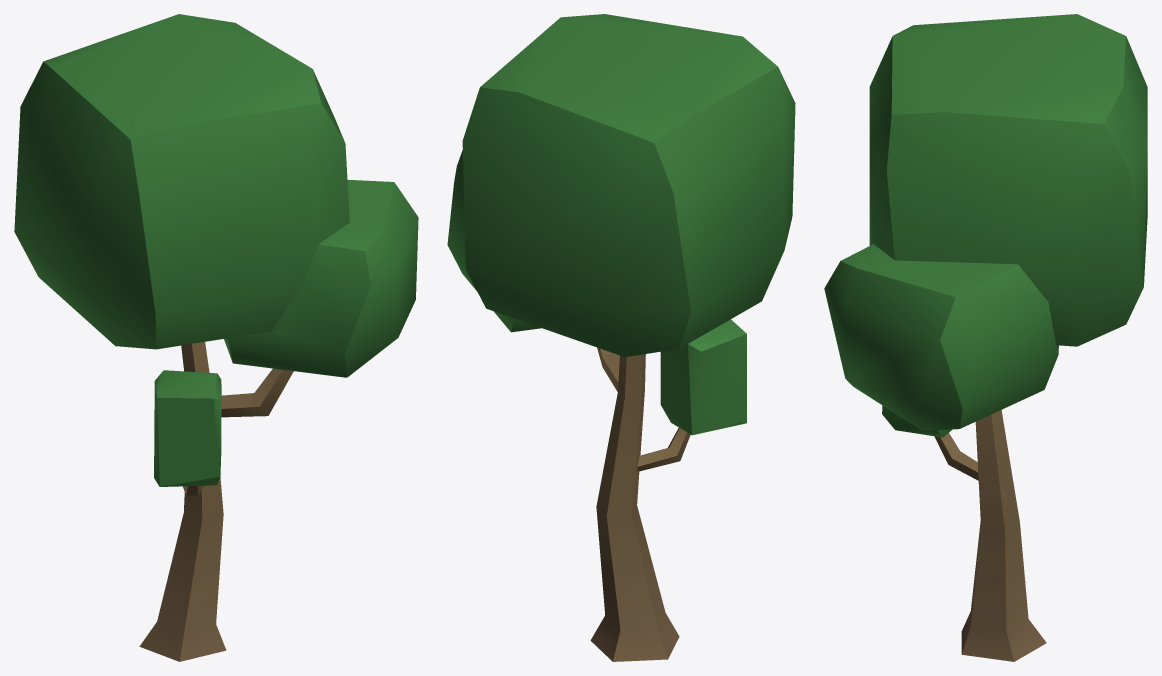
3 views of the same model, side by side, from view 1: azimuth 30°, elevation 25°; view 2: azimuth 150°, elevation 25°; view 3: azimuth 270°, elevation 25° (orthographic). The views are drawn at different scales.
Parts seen in each view (by area): view 1: mff_tree_maple_0; view 2: mff_tree_maple_0; view 3: mff_tree_maple_0.
Boxes of the visible parts, x1=… form: mff_tree_maple_0: x1=14, y1=14, x2=418, y2=661; mff_tree_maple_0: x1=447, y1=14, x2=795, y2=661; mff_tree_maple_0: x1=824, y1=14, x2=1147, y2=661.
Bounding box in the file's own units: 2.9 × 4.95 × 2.49.
1 material, 1 textured.
